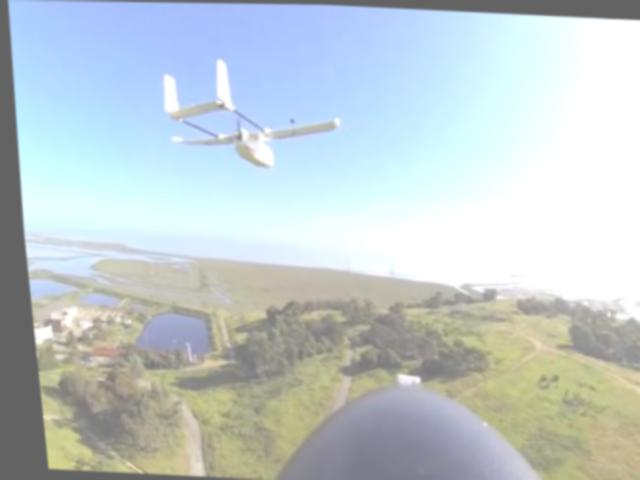uav: (151, 53, 345, 171)
